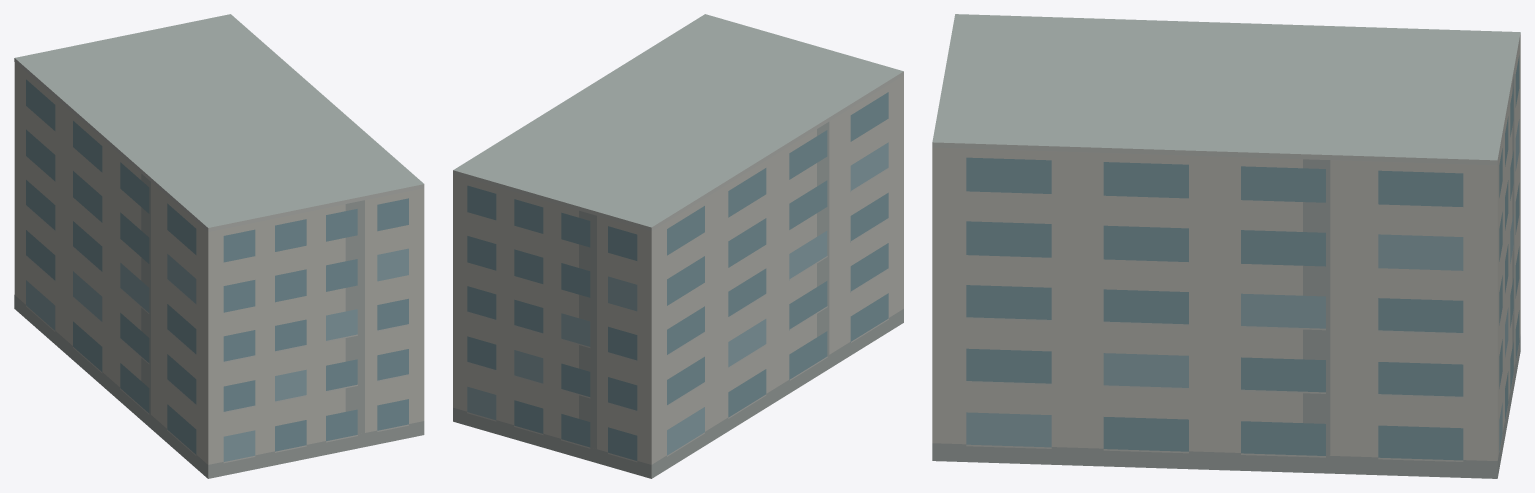
The model's file is residential-9b001681-9958-4d27-866b-01a04c84b045.glb.
3 renders of one model, left to right at view 1: azimuth 30°, elevation 25°; view 2: azimuth 150°, elevation 25°; view 3: azimuth 270°, elevation 25°, orthographic. The views are drawn at different scales.
Visible parts, largest first — view 1: residential-9b001681-9958-4d27-866b-01a04c84b045.tmp; view 2: residential-9b001681-9958-4d27-866b-01a04c84b045.tmp; view 3: residential-9b001681-9958-4d27-866b-01a04c84b045.tmp.
Part boxes in pixels (<box>): residential-9b001681-9958-4d27-866b-01a04c84b045.tmp: <box>14,14,424,478</box>; residential-9b001681-9958-4d27-866b-01a04c84b045.tmp: <box>453,14,903,478</box>; residential-9b001681-9958-4d27-866b-01a04c84b045.tmp: <box>932,14,1520,478</box>.
Bounding box in the file's own units: 15.04 × 15.25 × 25.54.
